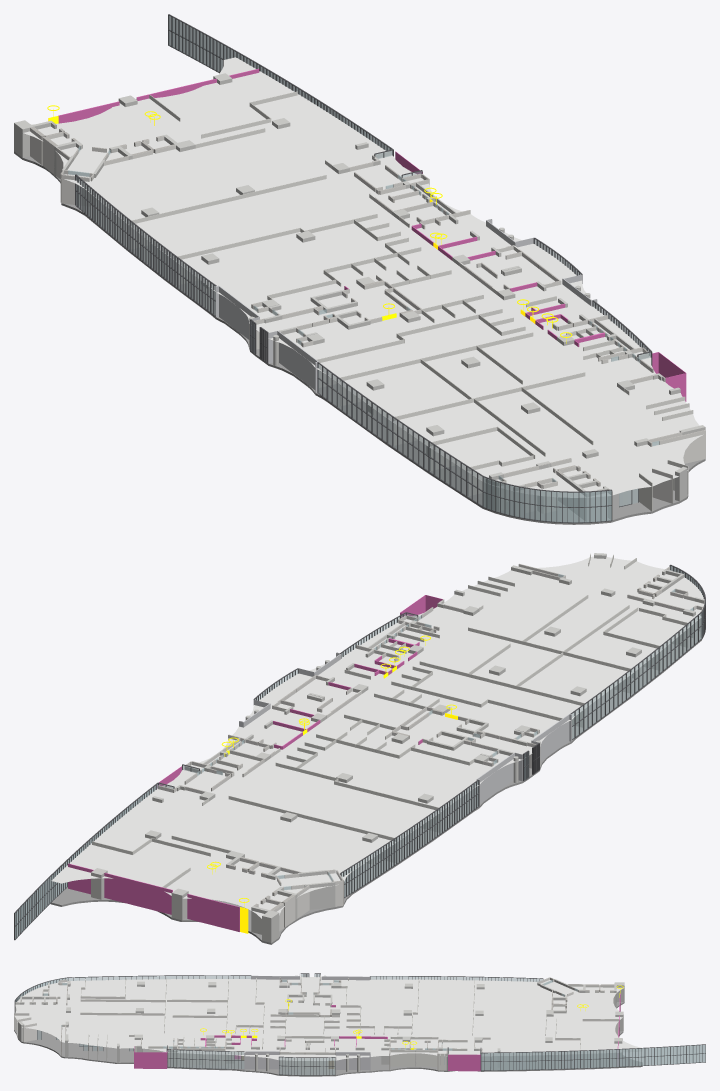
Rendered from rtp6c_review.glb.
The picture shows the model from 3 angles, top to bottom: view 1: azimuth 30°, elevation 25°; view 2: azimuth 150°, elevation 25°; view 3: azimuth 270°, elevation 25°; orthographic projection. The views are drawn at different scales.
Visible parts, largest first — view 1: False_ceiling__ceiling, Facade_curtain_wall__glass, Walls_drywall_POP__gypsum_board, Facade_curtain_wall__aluminium, Columns__rcc, Walls_block__plaster, Slab__slab, Walls_UNSETTLED__unknown, Facade_ACP__acp, Walls_block__brick, Walls_drywall_POP__stud_cavity; view 2: False_ceiling__ceiling, Walls_drywall_POP__gypsum_board, Facade_curtain_wall__glass, Facade_curtain_wall__aluminium, Columns__rcc, Walls_block__plaster, Walls_UNSETTLED__unknown, Slab__slab, Facade_ACP__acp, Walls_block__brick, Walls_drywall_POP__stud_cavity; view 3: False_ceiling__ceiling, Facade_curtain_wall__glass, Slab__slab, Facade_curtain_wall__aluminium, Columns__rcc, Walls_drywall_POP__gypsum_board, Walls_block__plaster, Walls_UNSETTLED__unknown, Facade_ACP__acp, Walls_RCC__plaster, Walls_block__brick, Walls_drywall_POP__stud_cavity (+3 smaller).
Part boxes in pixels (x1=…): False_ceiling__ceiling: x1=23, y1=57, x2=703, y2=497; Facade_curtain_wall__glass: x1=76, y1=15, x2=650, y2=522; Walls_drywall_POP__gypsum_board: x1=131, y1=91, x2=693, y2=511; Facade_curtain_wall__aluminium: x1=75, y1=14, x2=652, y2=523; Columns__rcc: x1=14, y1=73, x2=705, y2=521; Walls_block__plaster: x1=30, y1=123, x2=705, y2=519; Slab__slab: x1=14, y1=151, x2=705, y2=524; Walls_UNSETTLED__unknown: x1=58, y1=68, x2=686, y2=401; Facade_ACP__acp: x1=215, y1=219, x2=597, y2=393; Walls_block__brick: x1=30, y1=122, x2=705, y2=519; Walls_drywall_POP__stud_cavity: x1=132, y1=91, x2=692, y2=511; False_ceiling__ceiling: x1=51, y1=556, x2=704, y2=918; Walls_drywall_POP__gypsum_board: x1=92, y1=554, x2=688, y2=887; Facade_curtain_wall__glass: x1=15, y1=565, x2=703, y2=938; Facade_curtain_wall__aluminium: x1=14, y1=564, x2=705, y2=940; Columns__rcc: x1=91, y1=553, x2=704, y2=942; Walls_block__plaster: x1=158, y1=564, x2=702, y2=931; Walls_UNSETTLED__unknown: x1=68, y1=595, x2=442, y2=931; Slab__slab: x1=51, y1=631, x2=701, y2=944; Facade_ACP__acp: x1=239, y1=652, x2=571, y2=806; Walls_block__brick: x1=158, y1=564, x2=703, y2=927; Walls_drywall_POP__stud_cavity: x1=92, y1=554, x2=687, y2=887; False_ceiling__ceiling: x1=14, y1=977, x2=642, y2=1061; Facade_curtain_wall__glass: x1=15, y1=974, x2=705, y2=1075; Slab__slab: x1=14, y1=1002, x2=642, y2=1076; Facade_curtain_wall__aluminium: x1=14, y1=973, x2=705, y2=1075; Columns__rcc: x1=18, y1=975, x2=624, y2=1071; Walls_drywall_POP__gypsum_board: x1=14, y1=978, x2=618, y2=1058; Walls_block__plaster: x1=15, y1=975, x2=614, y2=1070; Walls_UNSETTLED__unknown: x1=134, y1=993, x2=620, y2=1071; Facade_ACP__acp: x1=244, y1=974, x2=370, y2=1074; Walls_RCC__plaster: x1=178, y1=1048, x2=437, y2=1066; Walls_block__brick: x1=15, y1=975, x2=614, y2=1070; Walls_drywall_POP__stud_cavity: x1=17, y1=978, x2=618, y2=1061.
Size of the model in its own units: 36.83 by 4.7 by 128.
